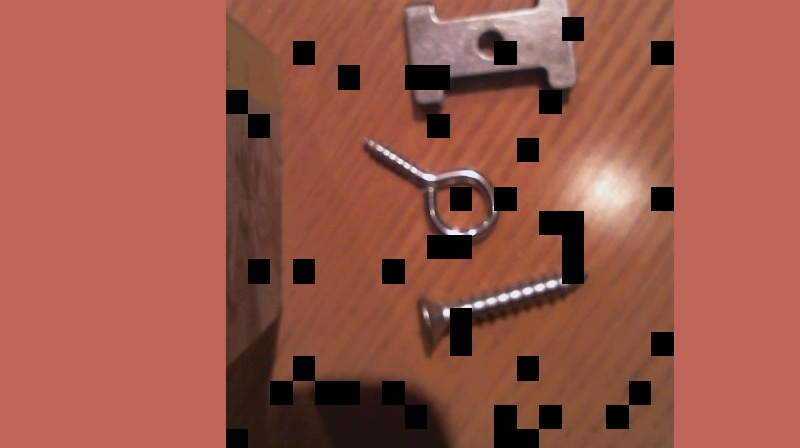O001: (356, 129, 503, 249)
O002: (397, 0, 578, 109)
S001: (411, 261, 590, 348)
